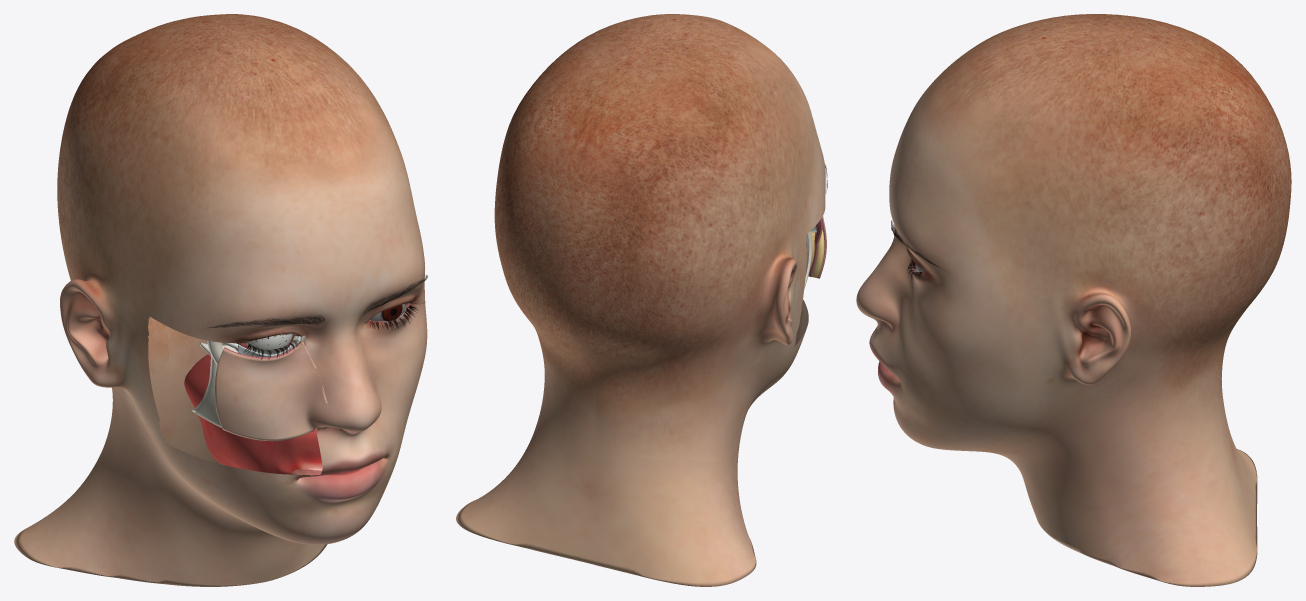
File: context.glb
The picture shows the model from 3 angles, left to right: view 1: azimuth 30°, elevation 25°; view 2: azimuth 150°, elevation 25°; view 3: azimuth 270°, elevation 25°; orthographic projection. The views are drawn at different scales.
Parts seen in each view (by area): view 1: head.context, tissue.dermis, head.cavity-context, support.maxillary-wall, surface.human.eyebrow001.R, support.globe; view 2: head.context; view 3: head.context.
Boxes of the visible parts, <box> form: head.context: <box>14,14,427,586</box>; tissue.dermis: <box>215,341,327,441</box>; head.cavity-context: <box>184,342,357,474</box>; support.maxillary-wall: <box>192,355,221,427</box>; surface.human.eyebrow001.R: <box>208,315,324,327</box>; support.globe: <box>246,333,292,354</box>; head.context: <box>456,14,825,586</box>; head.context: <box>856,14,1291,586</box>.
Size of the model in its own units: 0.1645 by 0.2538 by 0.2064.
13 materials, 4 textured.
